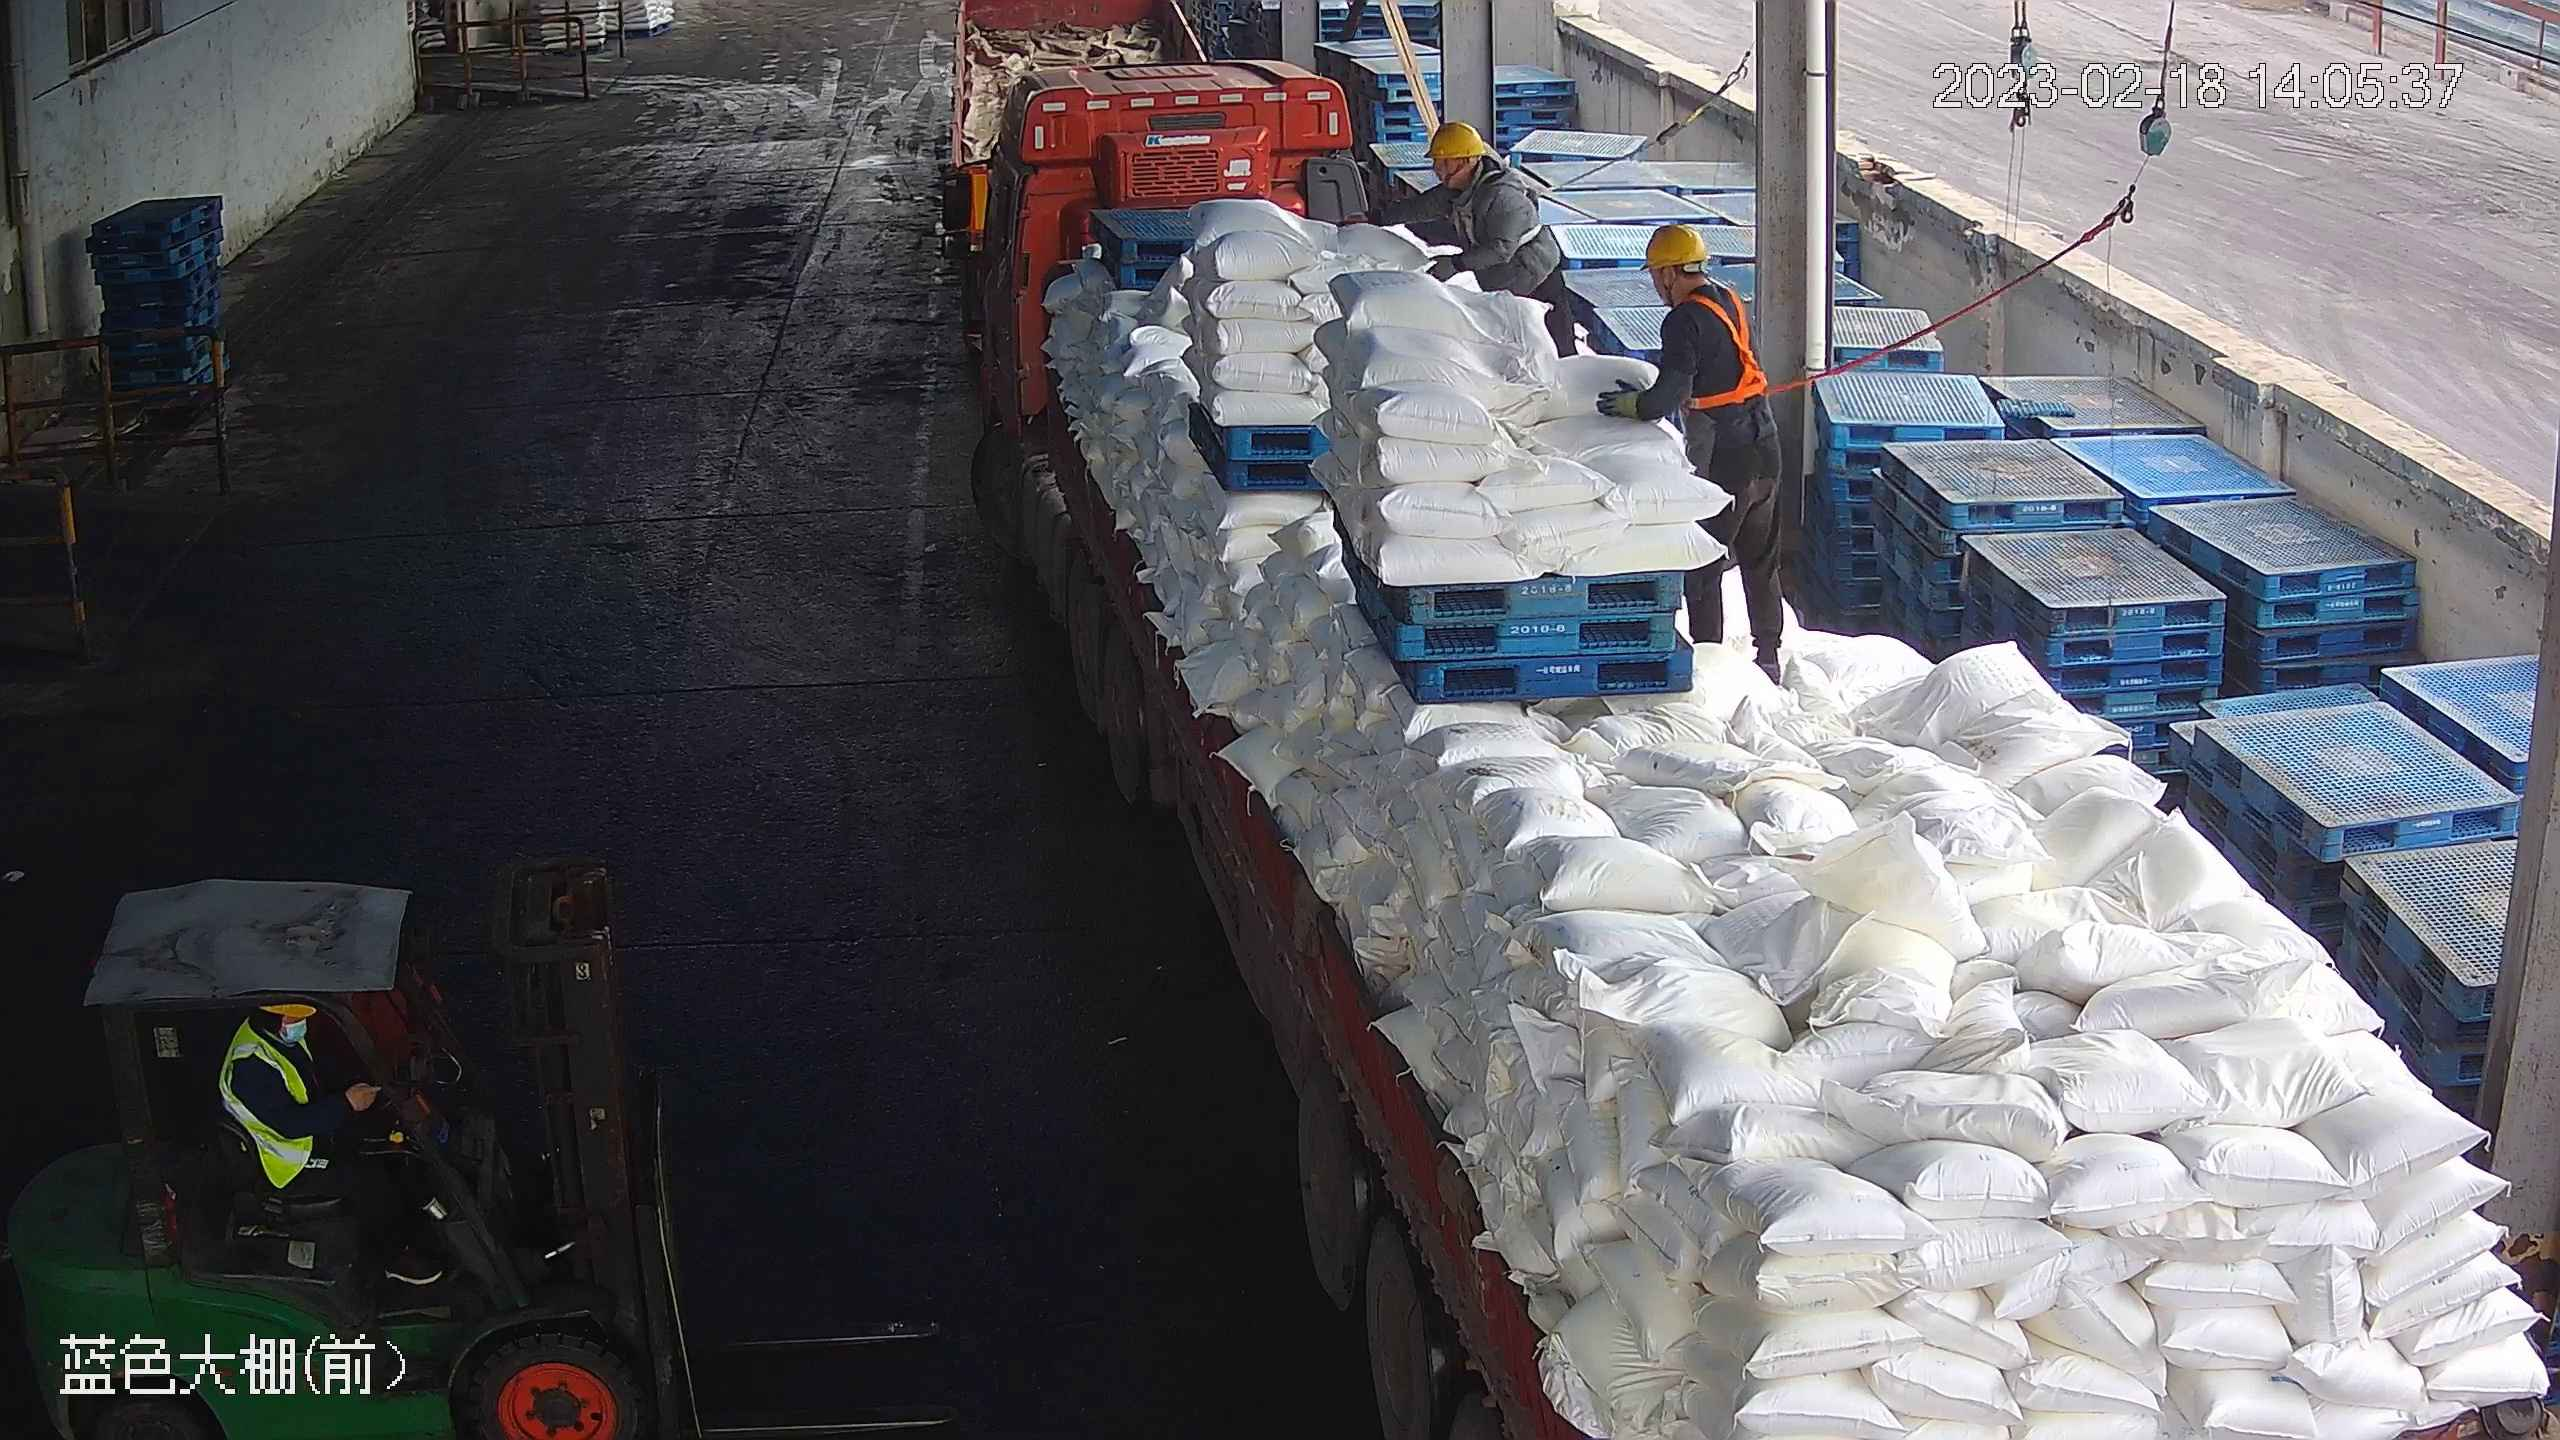belt: (1679, 285, 1776, 411), (1463, 162, 1555, 256)
head: (1637, 222, 1765, 348), (1422, 118, 1528, 214)
helmet: (1639, 222, 1711, 271), (1425, 118, 1487, 161)
people: (1597, 219, 1794, 692), (213, 989, 432, 1277), (1370, 115, 1598, 361)
truck: (949, 46, 2549, 1440)
